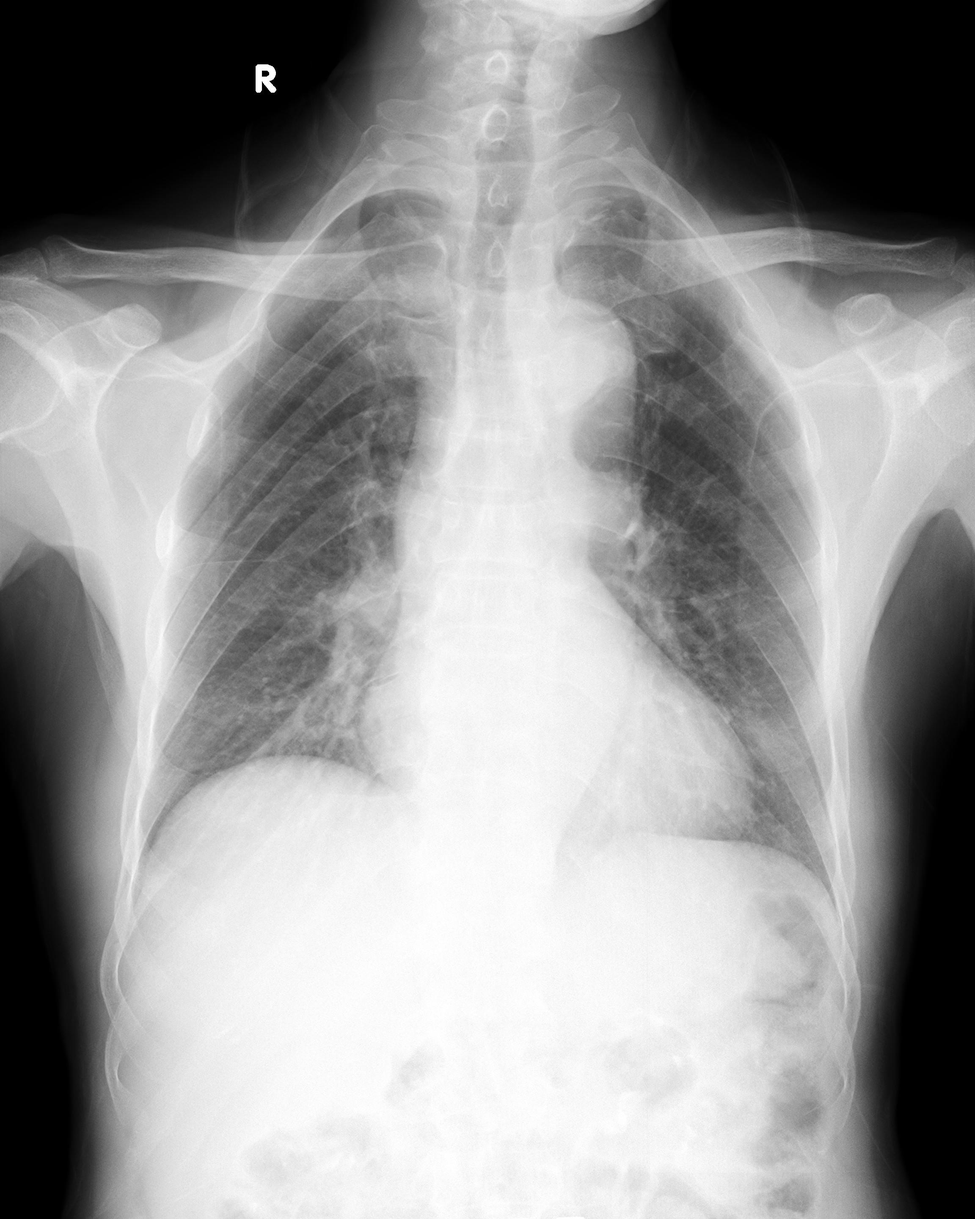Aortic enlargement: (516, 296, 638, 443)
Cardiomegaly: (358, 682, 754, 858)
